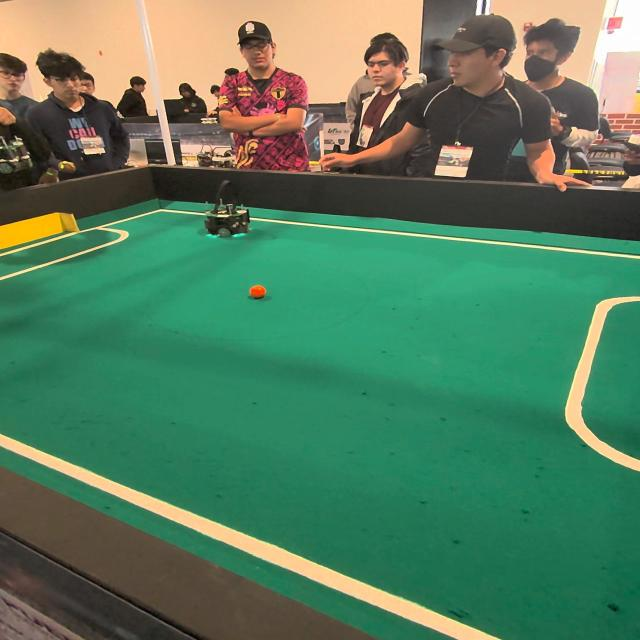Robot: (200, 177, 254, 246)
pelota: (250, 284, 266, 299)
